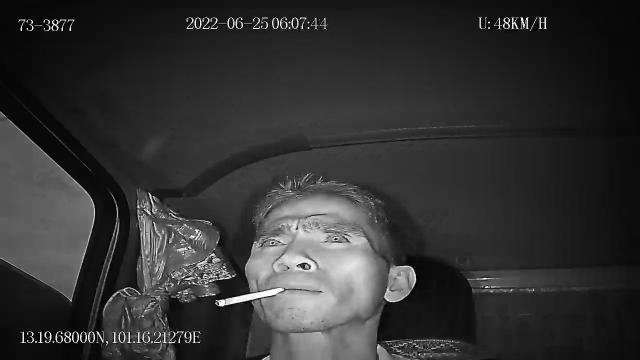SafeDriving: (314, 228, 355, 250), (254, 229, 291, 252)
Smoking: (216, 286, 288, 308)
